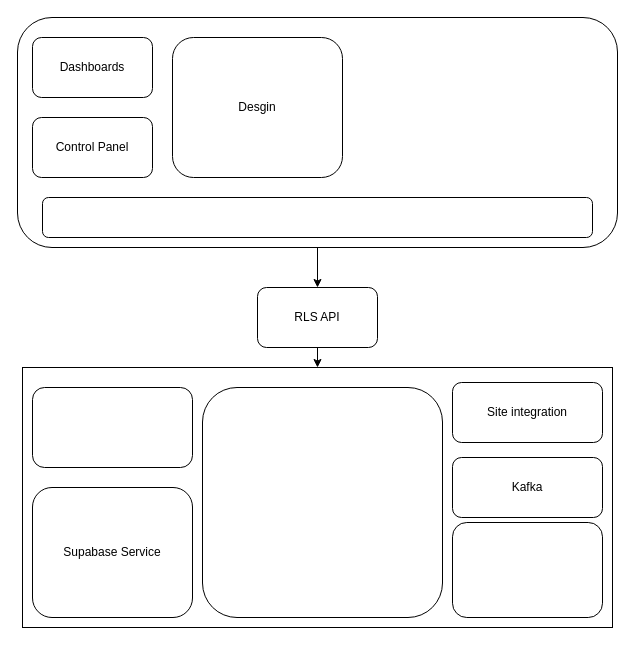
This 635x645 diagram has some shape labels left out. Here are the shapes that lost their labels. From the top down, the centre of each, then its label:
At point (317, 217): "API Handers".
At point (112, 427): "LLM Service".
At point (322, 502): "Data Handlers".
At point (527, 570): "Tasks".
